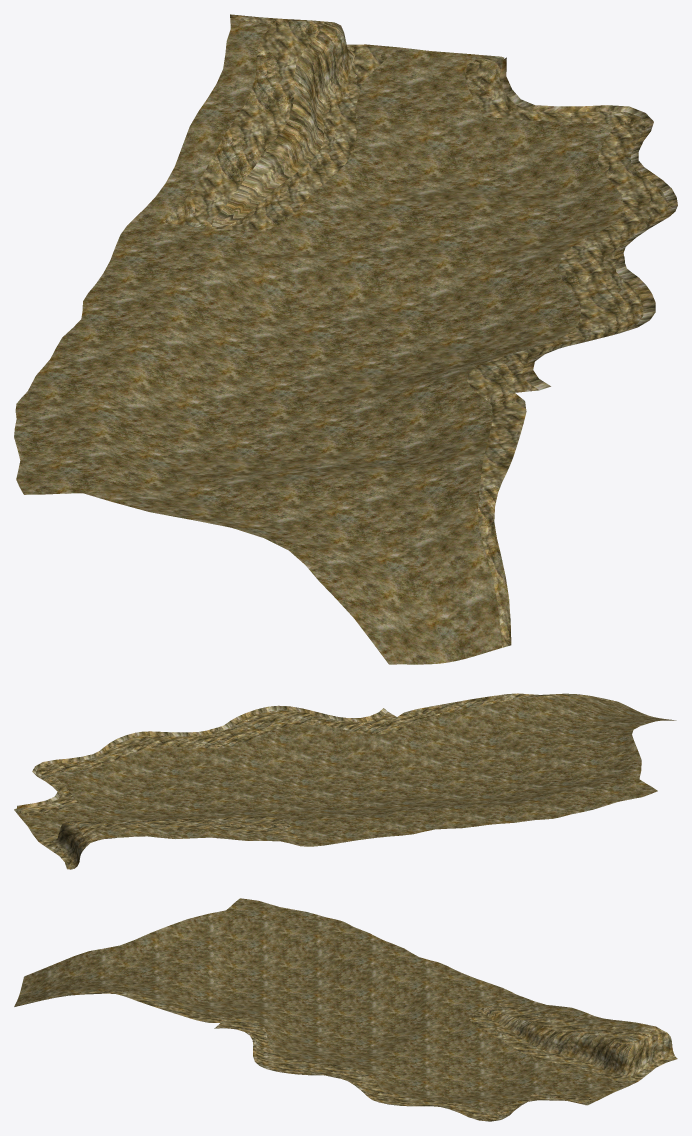
The model's file is RM_PLAYSURFACE_FINAL_MESH03.fbx.
3 views of the same model, one above another, from view 1: azimuth 30°, elevation 25°; view 2: azimuth 150°, elevation 25°; view 3: azimuth 270°, elevation 25° (orthographic). The views are drawn at different scales.
Visible parts, largest first — view 1: RM_PLAYSURFACE_FINAL_MESH03; view 2: RM_PLAYSURFACE_FINAL_MESH03; view 3: RM_PLAYSURFACE_FINAL_MESH03.
Boxes of the visible parts, box(x1,y1,x2,y2) form: RM_PLAYSURFACE_FINAL_MESH03: box(14, 14, 677, 664); RM_PLAYSURFACE_FINAL_MESH03: box(14, 693, 676, 869); RM_PLAYSURFACE_FINAL_MESH03: box(14, 898, 677, 1121).
Bounding box in the file's own units: 682925 × 94936 × 850812.
3 materials, 3 textured.
